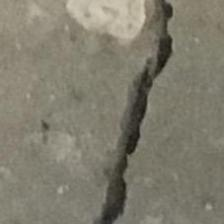Crack: (80, 0, 195, 224)
